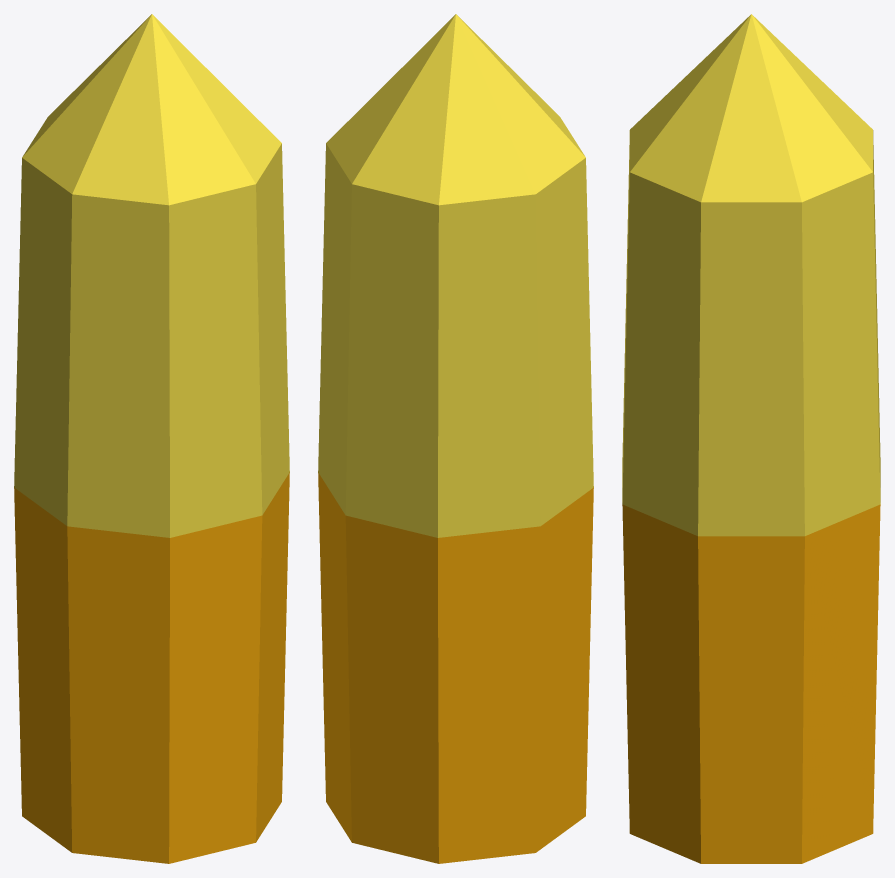
File: bullet.gltf
3 views of the same model, side by side, from view 1: azimuth 30°, elevation 25°; view 2: azimuth 150°, elevation 25°; view 3: azimuth 270°, elevation 25° (orthographic).
Parts seen in each view (by area): view 1: sphere; view 2: sphere; view 3: sphere.
Part boxes in pixels (<box>): sphere: <box>14,14,289,863</box>; sphere: <box>318,14,593,863</box>; sphere: <box>622,14,880,863</box>.
Bounding box in the file's own units: 0.125 × 0.4375 × 0.125.
Materials: 1 (1 with a texture image).
